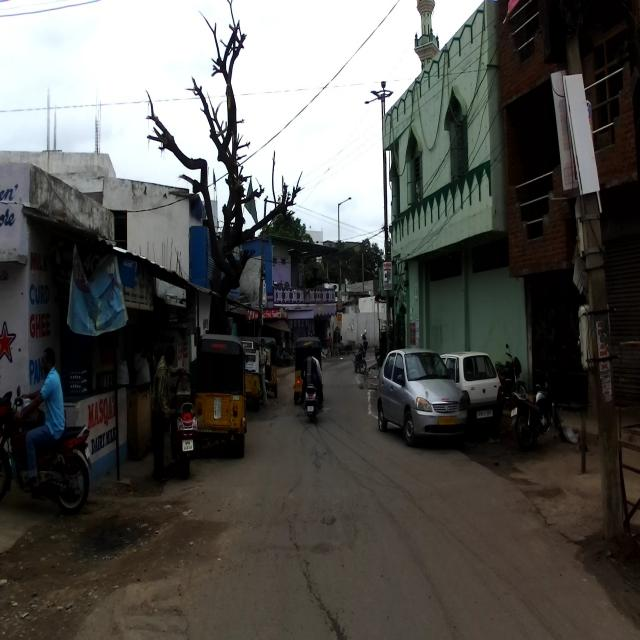Car_Maruti-Suzuki: (439, 350, 504, 440)
Car_TATA: (376, 348, 468, 449)
autorickshaw: (195, 334, 246, 456)
motorcycle_Hero: (507, 364, 565, 448), (495, 342, 527, 411)
motorcycle_bajaj: (0, 379, 93, 514)
scooter: (166, 366, 196, 477), (303, 371, 323, 421)
